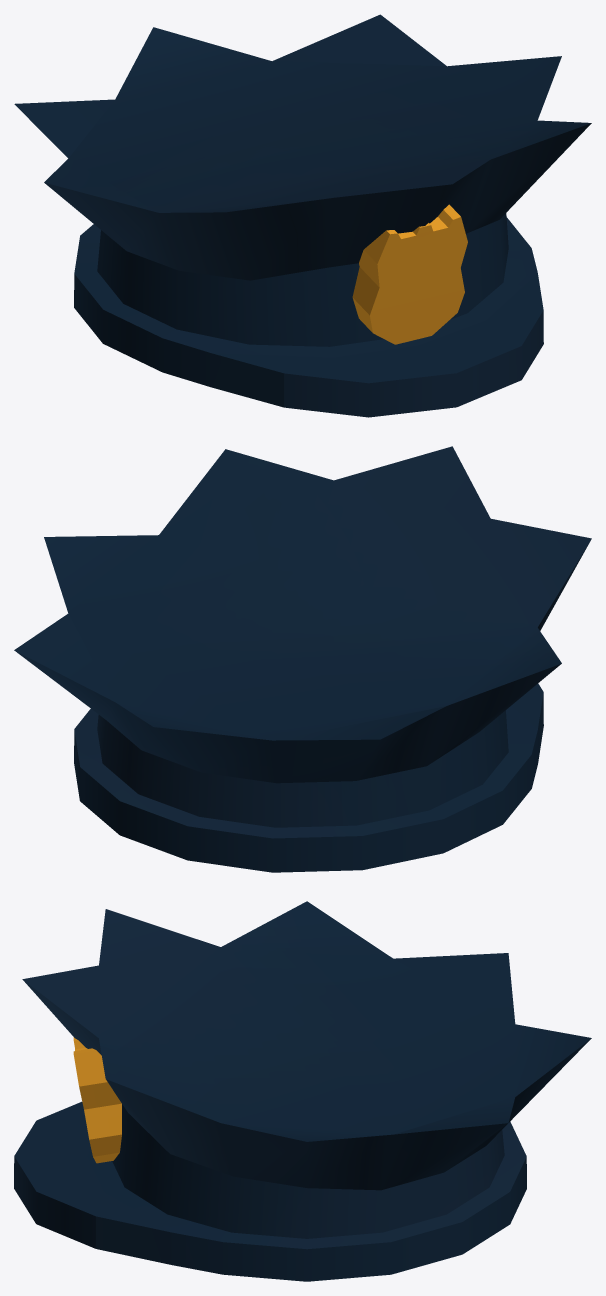
File: Charakter_Policeman_cap.FBX
3 renders of one model, top to bottom at view 1: azimuth 30°, elevation 25°; view 2: azimuth 150°, elevation 25°; view 3: azimuth 270°, elevation 25°, orthographic. The views are drawn at different scales.
Visible parts, largest first — view 1: Charakter_Policeman_cap, Charakter_Policeman_cap_sign; view 2: Charakter_Policeman_cap; view 3: Charakter_Policeman_cap, Charakter_Policeman_cap_sign.
Boxes of the visible parts, <box> form: Charakter_Policeman_cap: <box>14,14,591,417</box>; Charakter_Policeman_cap_sign: <box>352,204,467,344</box>; Charakter_Policeman_cap: <box>14,446,591,872</box>; Charakter_Policeman_cap: <box>14,901,591,1281</box>; Charakter_Policeman_cap_sign: <box>73,1037,121,1163</box>.
Bounding box in the file's own units: 187 × 190 × 75.86.
